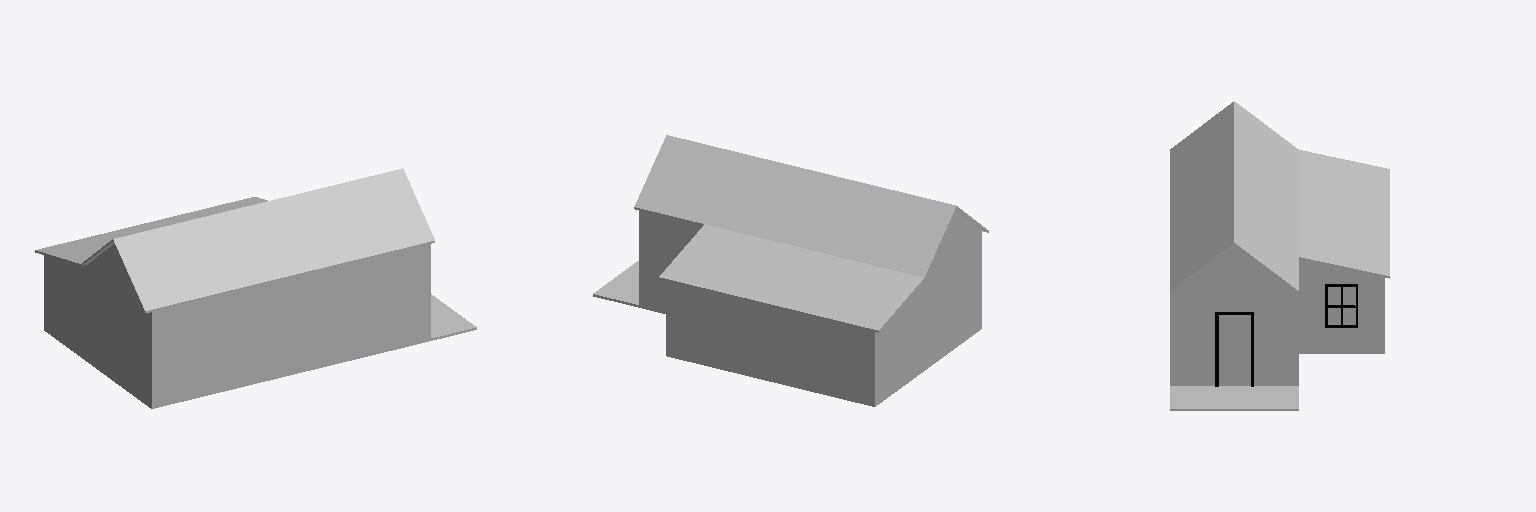
File: Cabin_6_WebFile.obj
The picture shows the model from 3 angles: view 1: azimuth 30°, elevation 25°; view 2: azimuth 150°, elevation 25°; view 3: azimuth 270°, elevation 25°; orthographic projection.
Visible parts, largest first — view 1: Cube; view 2: Cube; view 3: Cube.
Boxes of the visible parts, x1,y1,x2,y2 form: Cube: [35, 168, 476, 408]; Cube: [593, 135, 988, 406]; Cube: [1170, 101, 1389, 410].
Bounding box in the file's own units: 10.88 × 4.64 × 6.25.